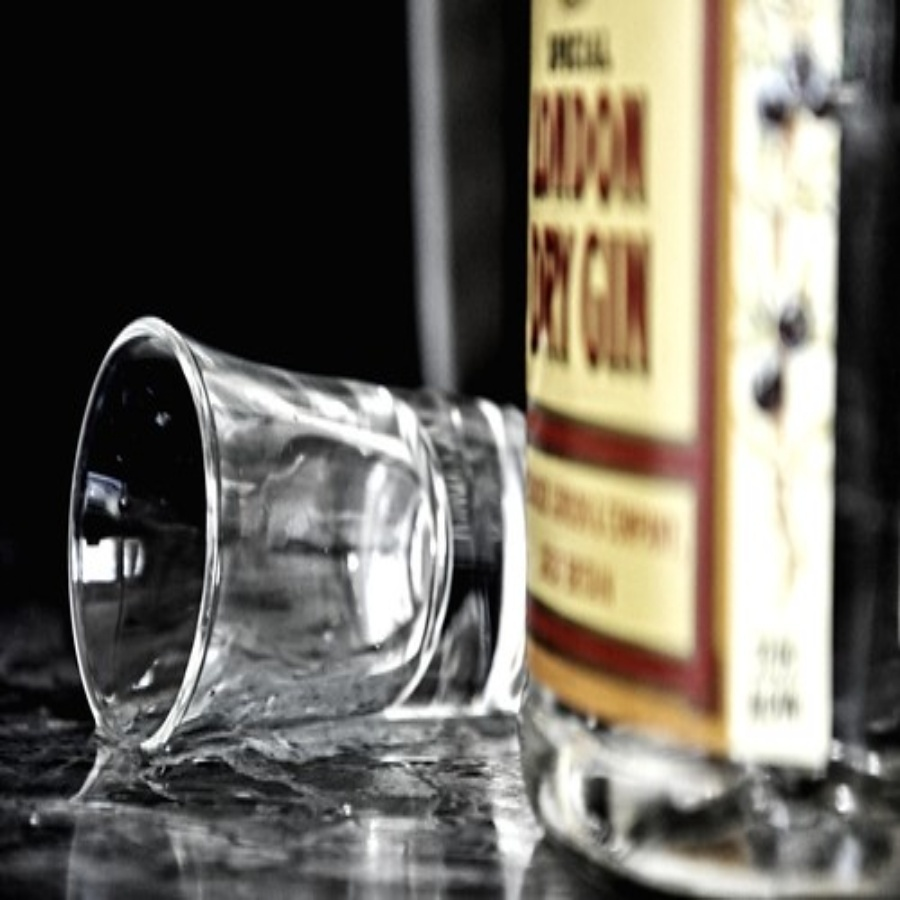whiskey: (65, 329, 528, 728)
